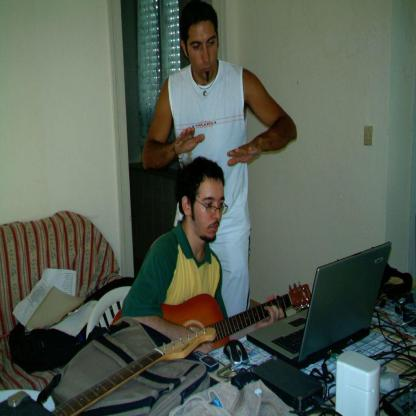board: (253, 244, 380, 392)
